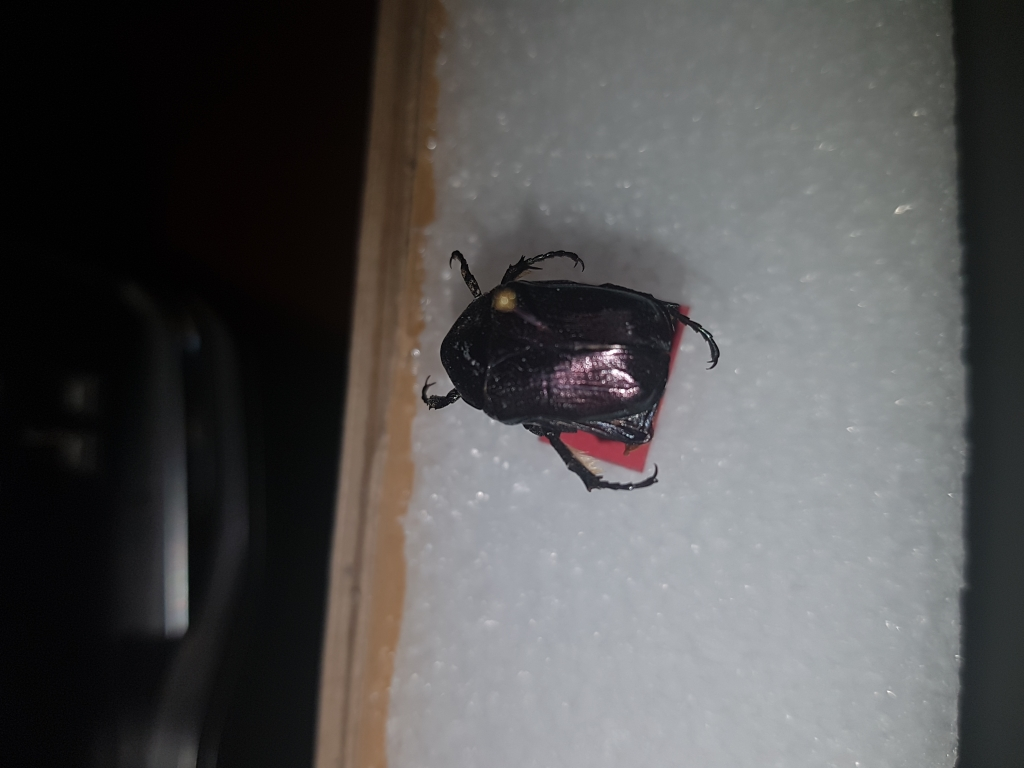Protaetia_besucheti: (407, 230, 738, 510)
